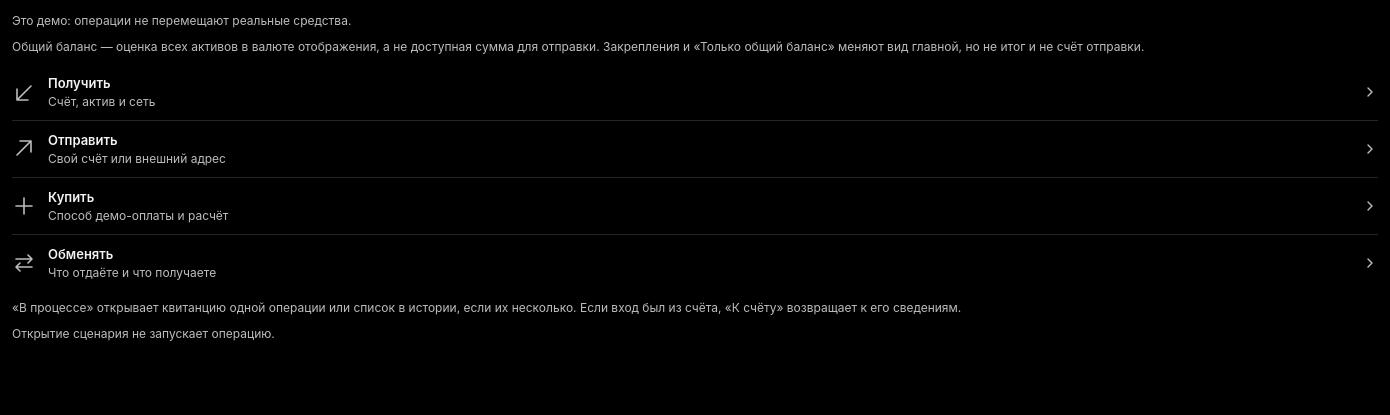
ProductHelp controlled actions › keeps explicitly unavailable read-only with an explanation
Click the button "Отправить Свой счёт или внешний адрес" at x=83, y=140, box [12,121,1378,177]
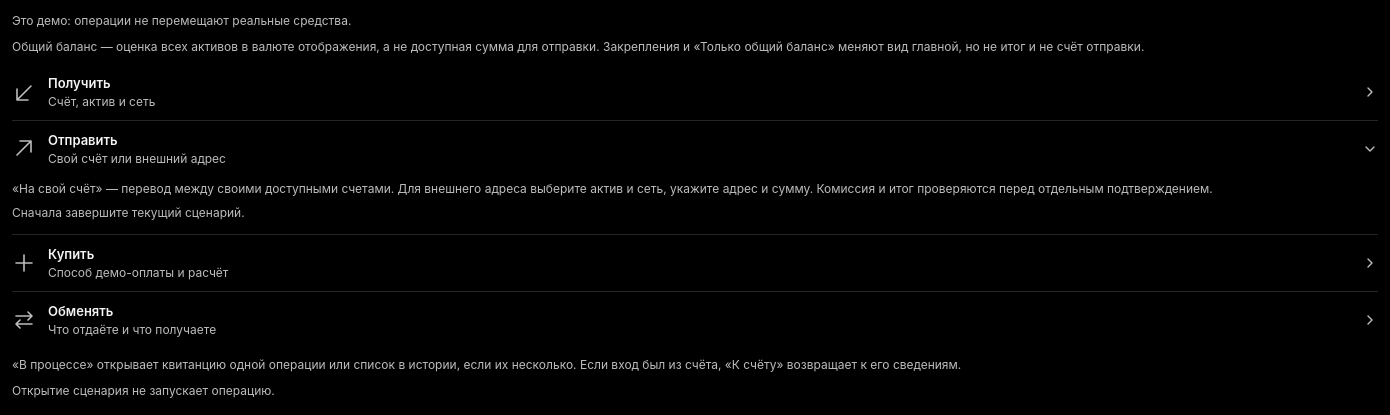
Expected: the text "Сначала завершите текущий сценарий." is shown, [12,204,245,222]
